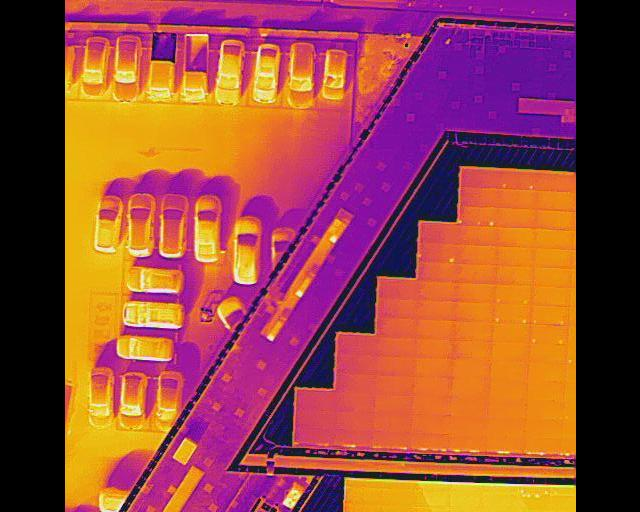Cell-Multi: (492, 304, 530, 326), (530, 304, 568, 326), (418, 243, 455, 264), (459, 206, 495, 227), (496, 171, 534, 190), (494, 284, 530, 304), (528, 326, 566, 344), (519, 493, 549, 511)
No-Anomaly: (410, 413, 451, 435), (375, 317, 416, 338), (456, 244, 495, 266), (374, 355, 414, 376), (336, 354, 376, 375), (376, 336, 416, 357), (377, 298, 417, 319), (332, 391, 373, 411), (485, 418, 526, 438), (534, 190, 573, 211), (453, 321, 492, 342), (417, 279, 454, 301), (450, 378, 490, 398), (454, 283, 494, 303), (455, 226, 495, 246), (414, 356, 452, 377), (333, 411, 375, 430), (295, 409, 333, 430), (413, 394, 451, 415), (531, 285, 569, 306), (451, 358, 489, 379), (452, 340, 490, 361), (454, 265, 496, 284), (374, 375, 413, 395), (533, 210, 572, 230), (531, 248, 570, 268), (453, 302, 492, 322), (297, 390, 332, 412), (420, 223, 455, 245), (450, 415, 485, 437), (378, 279, 416, 299), (531, 267, 569, 287), (495, 189, 535, 208), (490, 360, 528, 380), (492, 324, 530, 344), (534, 172, 572, 192), (489, 398, 525, 419), (495, 246, 531, 267), (417, 299, 453, 320), (373, 393, 412, 412), (450, 397, 489, 416), (527, 361, 566, 380), (338, 334, 375, 354), (491, 342, 528, 362), (534, 229, 571, 249), (335, 375, 376, 393), (496, 208, 534, 227), (526, 381, 564, 400), (416, 319, 452, 339), (490, 379, 526, 399), (371, 430, 408, 449), (373, 412, 410, 431), (495, 227, 532, 246), (417, 263, 454, 282), (416, 336, 451, 356), (460, 187, 495, 207), (413, 376, 451, 394), (524, 418, 560, 437), (528, 344, 565, 362), (525, 400, 562, 418), (495, 266, 530, 285), (461, 169, 496, 188), (294, 428, 333, 445), (377, 487, 413, 504), (413, 490, 450, 506), (345, 486, 378, 503), (548, 496, 576, 512), (345, 503, 379, 512), (411, 505, 450, 512), (378, 504, 412, 512)
Unclassified: (409, 431, 448, 450), (334, 429, 371, 447), (448, 435, 484, 453), (484, 437, 523, 453), (524, 437, 560, 453)
